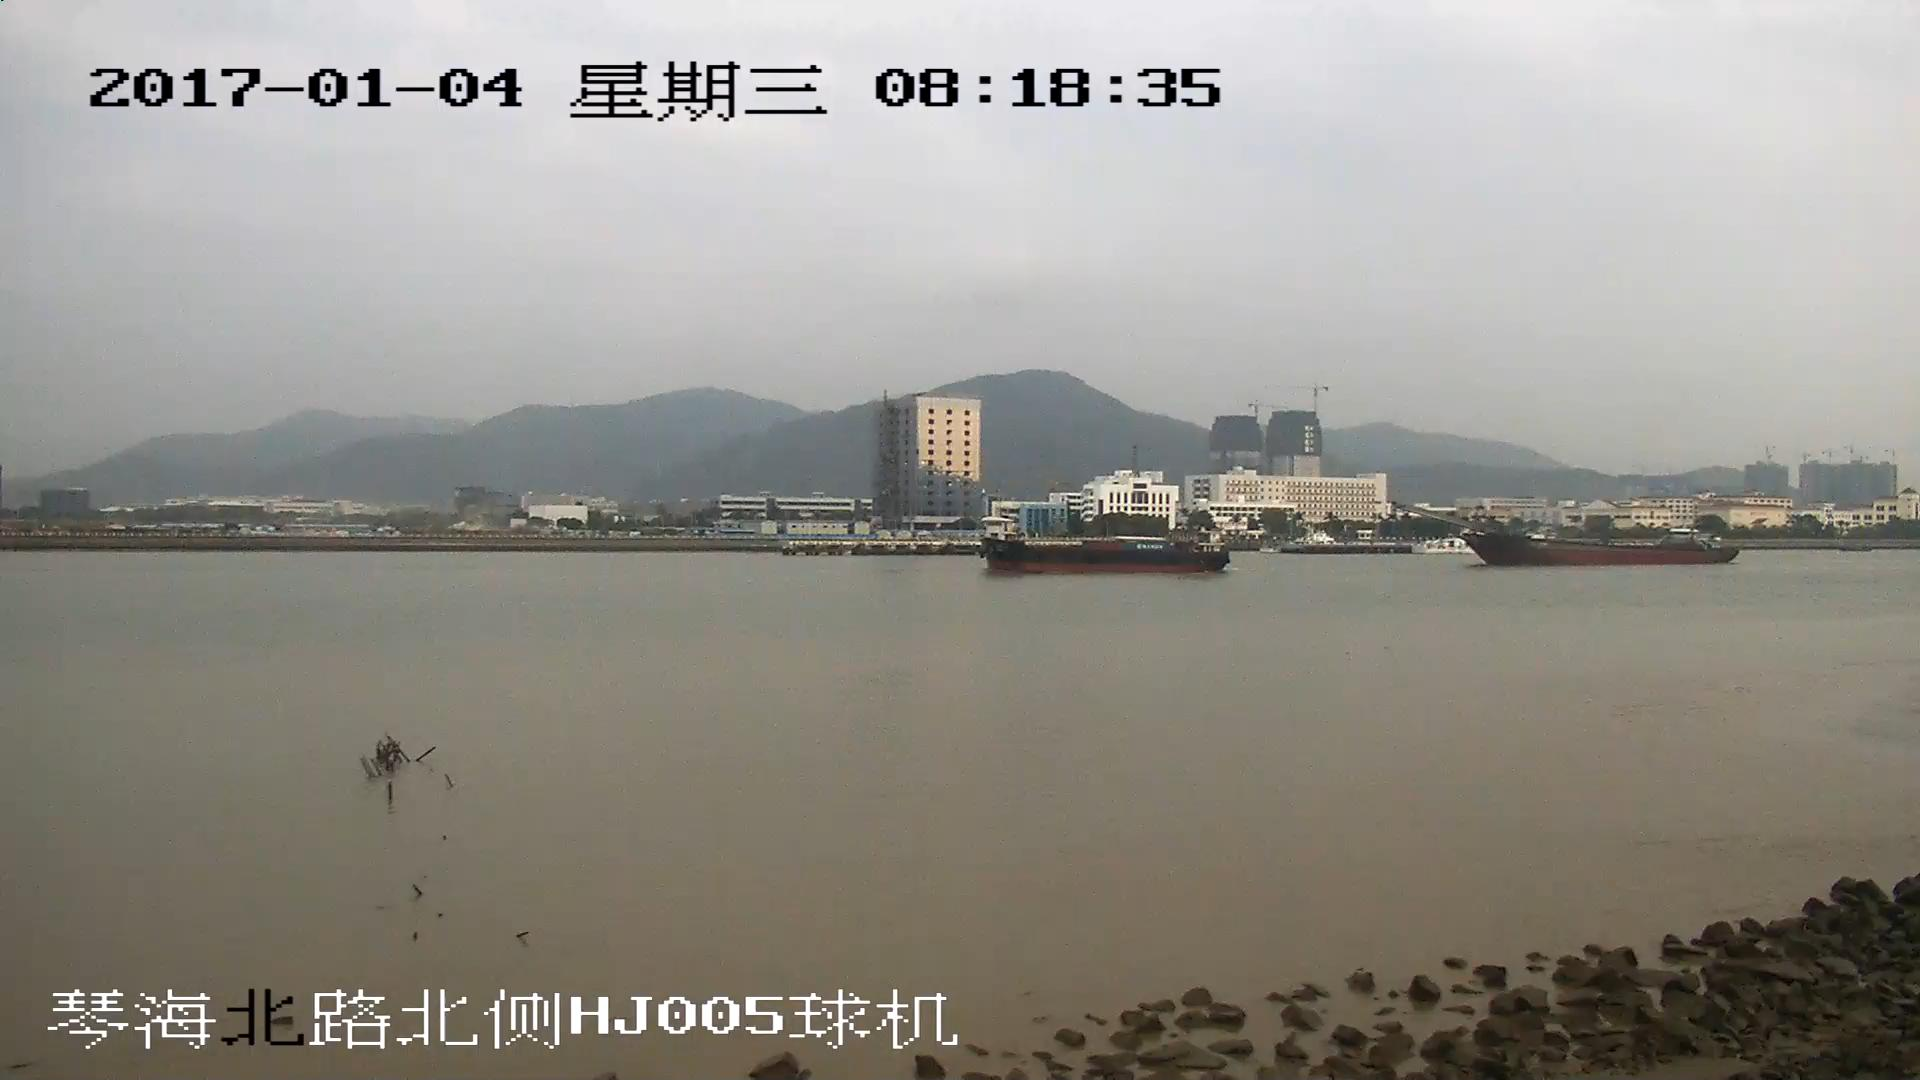bulk cargo carrier: (1402, 503, 1731, 561)
container ship: (986, 519, 1228, 575)
